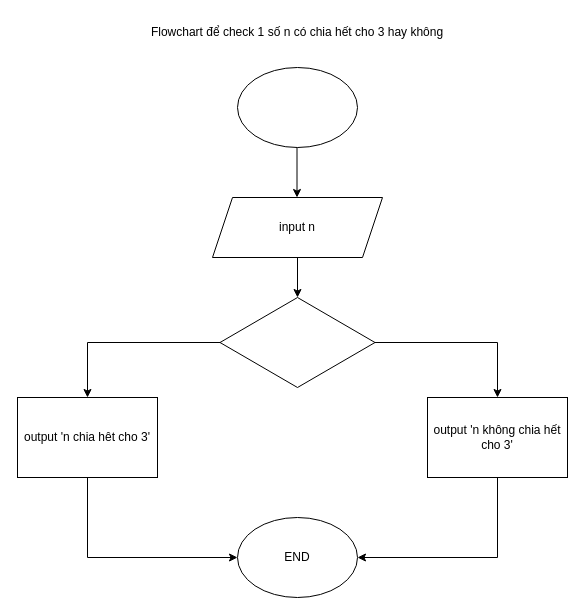
Image size: 585x615. Some labels were removed from this diagram. The centre of each missing label's shape, as x and y in pixels:
"n % 3 = 0" belongs at (297,342).
"START" belongs at (297,107).
